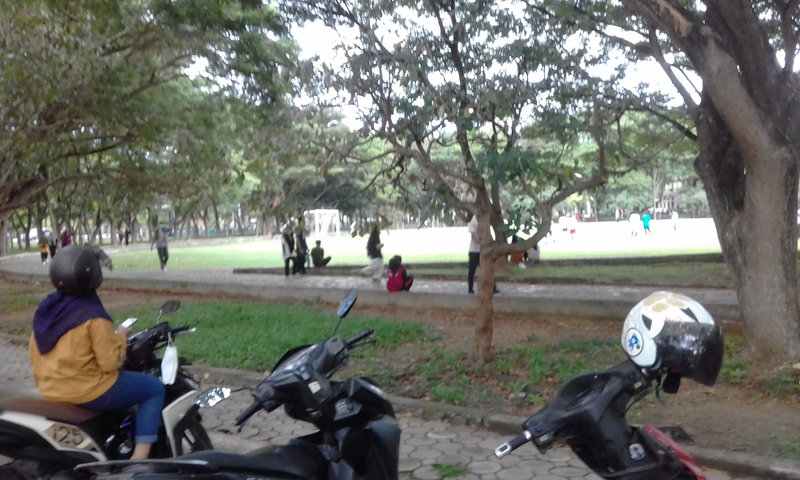person: (466, 208, 503, 294), (359, 219, 387, 286), (279, 213, 303, 280), (148, 221, 174, 274)
